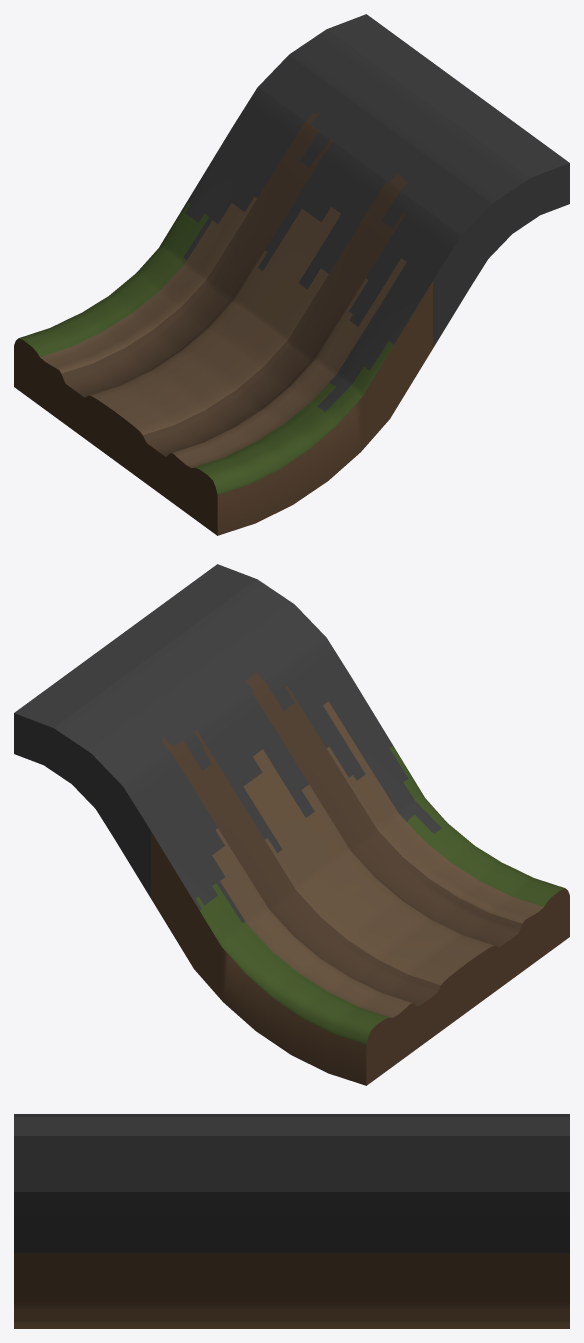
The picture shows the model from 3 angles, top to bottom: view 1: azimuth 30°, elevation 25°; view 2: azimuth 150°, elevation 25°; view 3: azimuth 270°, elevation 25°; orthographic projection. The views are drawn at different scales.
Visible parts, largest first — view 1: c3t; view 2: c3t; view 3: c3t.
Part boxes in pixels (bbox=[...]): c3t: bbox=[14, 14, 569, 535]; c3t: bbox=[14, 564, 569, 1085]; c3t: bbox=[14, 1114, 569, 1328].
Size of the model in its own units: 9 by 7 by 9.
